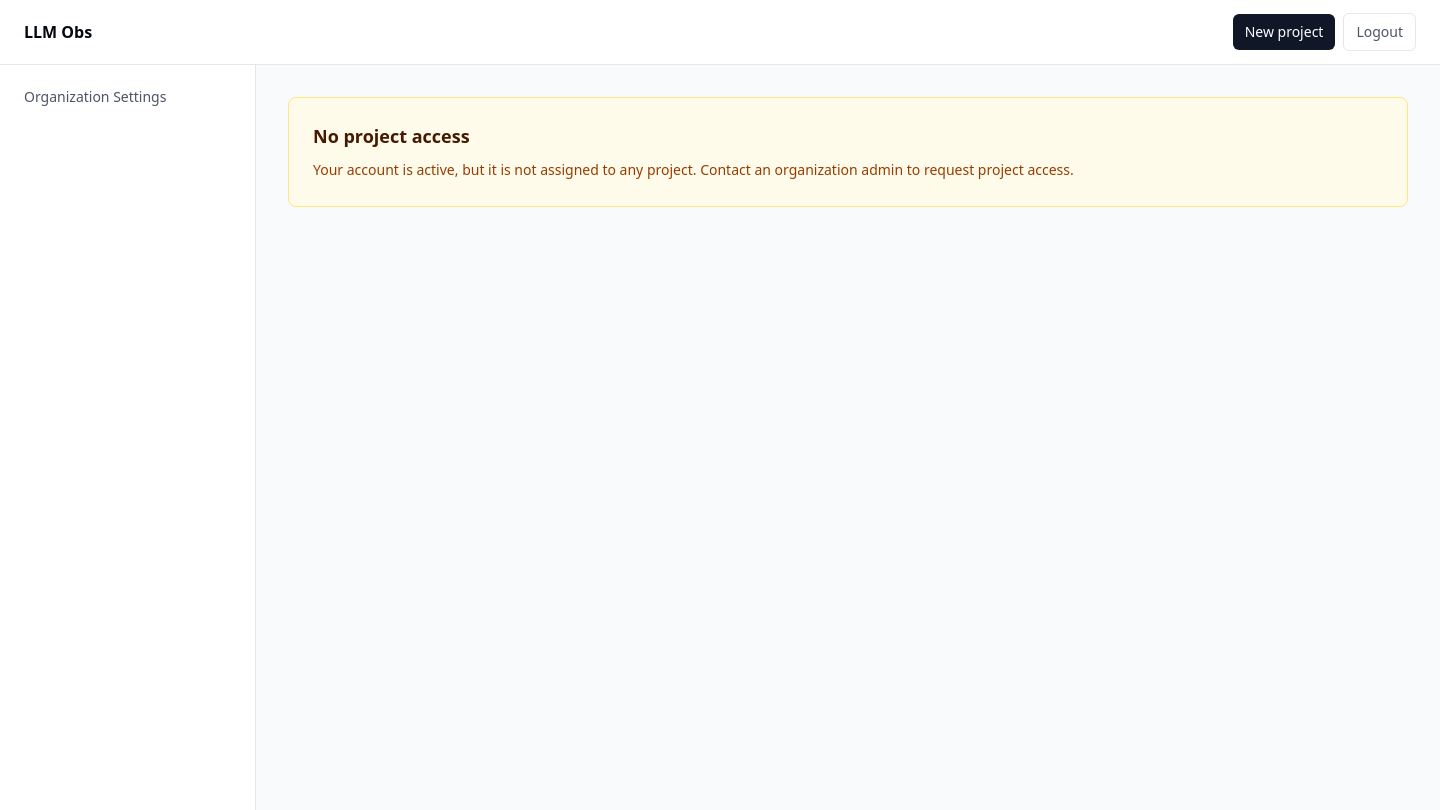
App › logs out and clears stored session values
This screenshot has width=1440, height=810.
Click the button "Logout": click(1380, 32) [1343,13,1416,51]
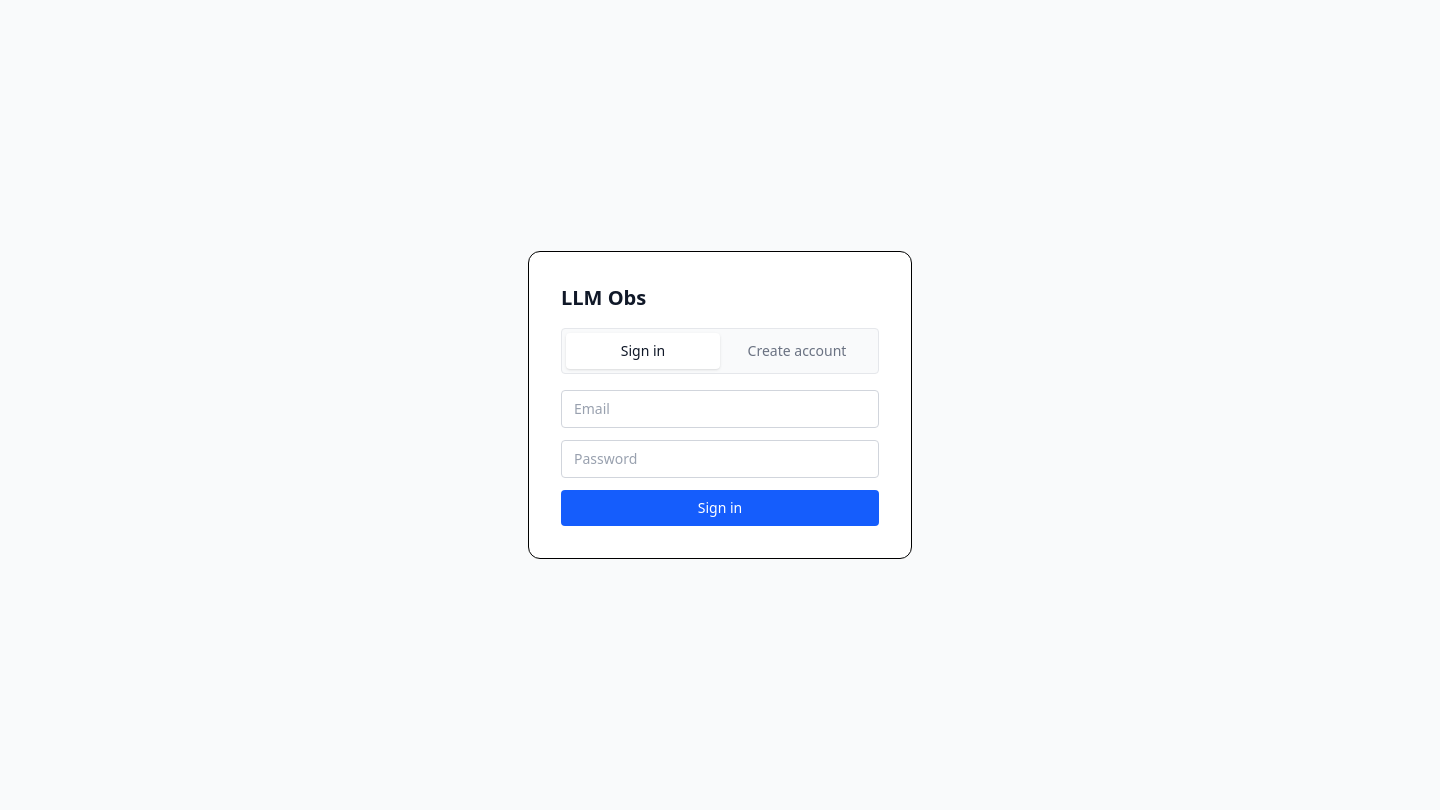
Now the field with placeholder "Email" is shown, box [561,390,879,428]
